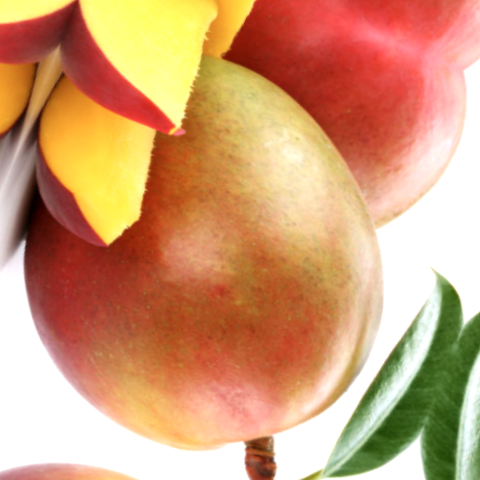mango: (0, 0, 462, 480)
